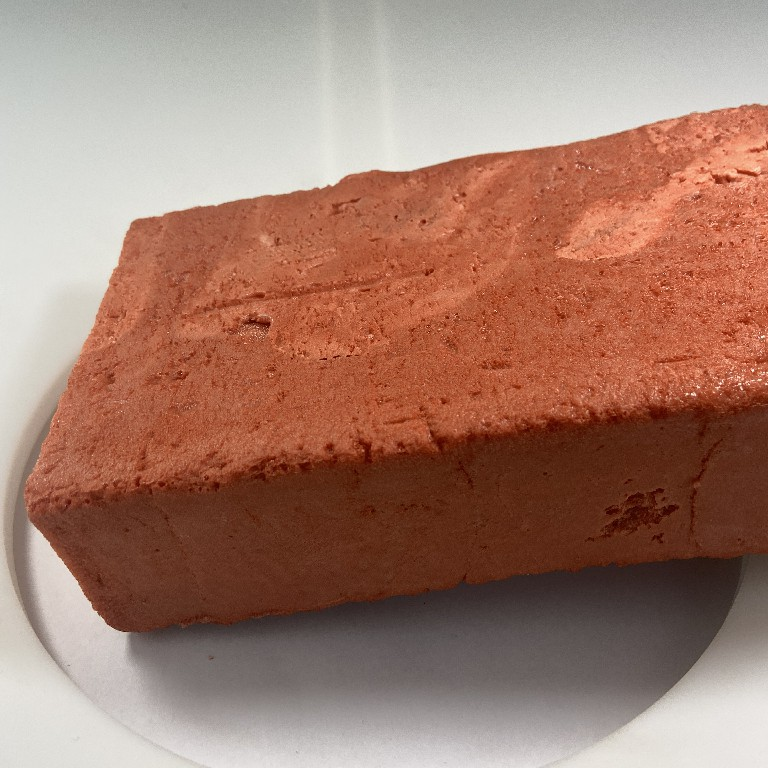brick: (19, 102, 768, 642)
